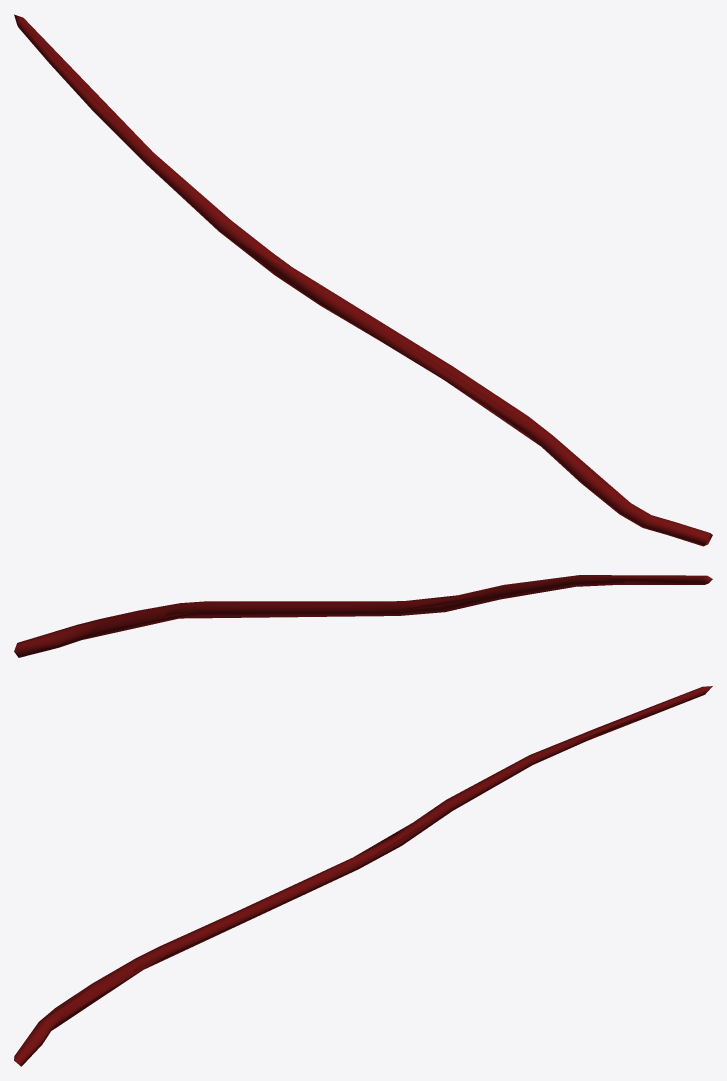
Rendered from R arteria thoracodorsalis.fbx.
The picture shows the model from 3 angles, top to bottom: view 1: azimuth 30°, elevation 25°; view 2: azimuth 210°, elevation 25°; view 3: azimuth 270°, elevation 25°; orthographic projection. The views are drawn at different scales.
Parts seen in each view (by area): view 1: R arteria thoracodorsalis, R arteria thoracodorsalis low; view 2: R arteria thoracodorsalis, R arteria thoracodorsalis low; view 3: R arteria thoracodorsalis, R arteria thoracodorsalis low.
Part boxes in pixels (left/top/right/bottom): R arteria thoracodorsalis: left=14, top=14, right=712, bottom=546; R arteria thoracodorsalis low: left=20, top=18, right=712, bottom=545; R arteria thoracodorsalis: left=14, top=575, right=712, bottom=657; R arteria thoracodorsalis low: left=15, top=575, right=706, bottom=647; R arteria thoracodorsalis: left=14, top=686, right=712, bottom=1066; R arteria thoracodorsalis low: left=14, top=687, right=705, bottom=1066.
Bounding box in the file's own units: 8.59 × 8.39 × 20.44.
